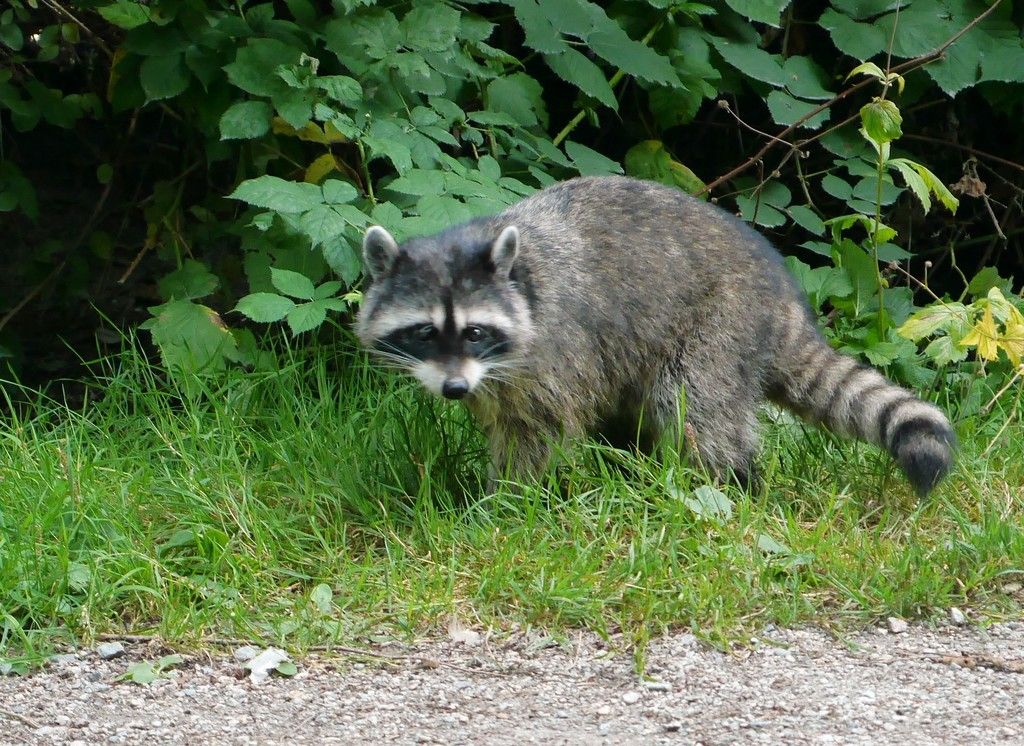raccoon: (357, 171, 950, 487)
